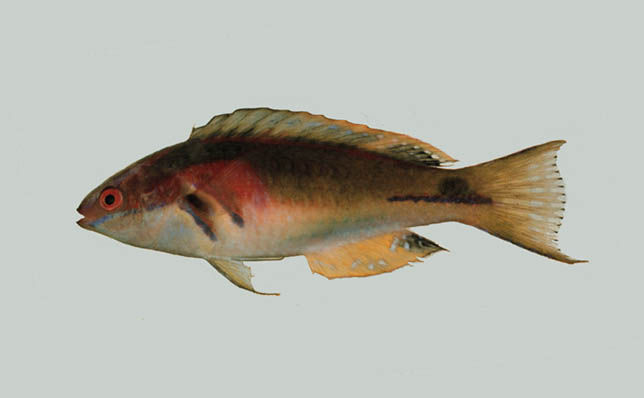fish: (77, 108, 589, 297)
